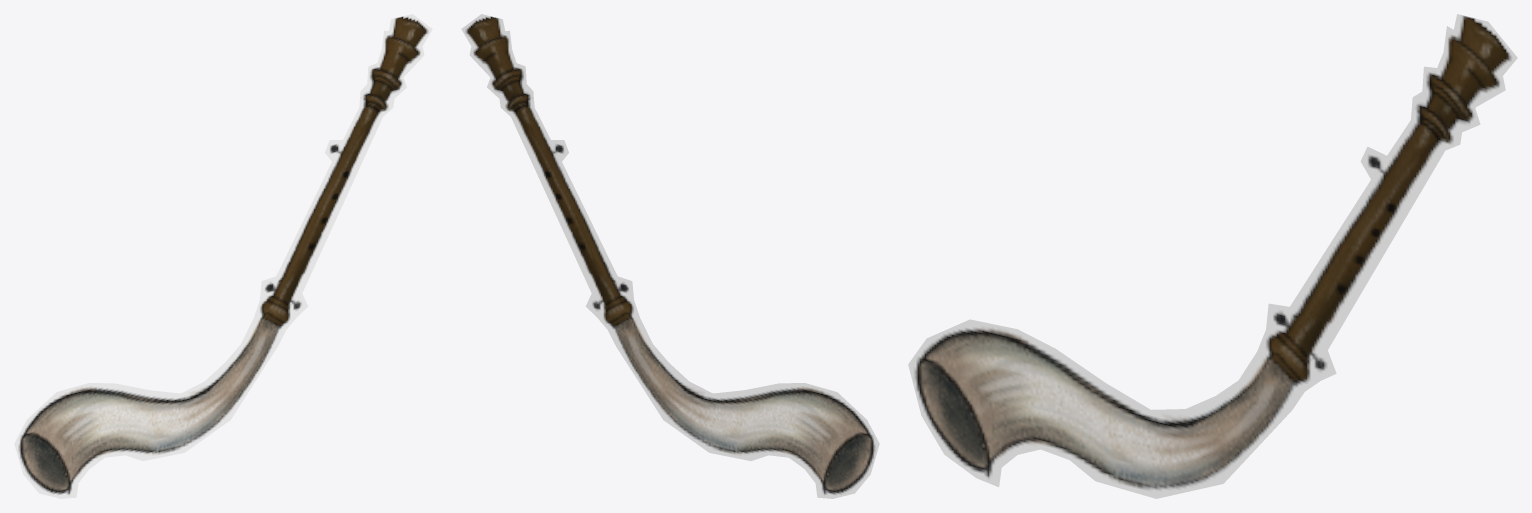
3 views of the same model, side by side, from view 1: azimuth 30°, elevation 25°; view 2: azimuth 150°, elevation 25°; view 3: azimuth 330°, elevation 25° (orthographic). The views are drawn at different scales.
Parts seen in each view (by area): view 1: Plane; view 2: Plane; view 3: Plane.
Boxes of the visible parts, bbox=[...] form: Plane: bbox=[14, 14, 432, 498]; Plane: bbox=[461, 14, 879, 498]; Plane: bbox=[908, 14, 1517, 498].
Bounding box in the file's own units: 3.35 × 3.07 × 0.
Materials: 1 (1 with a texture image).
